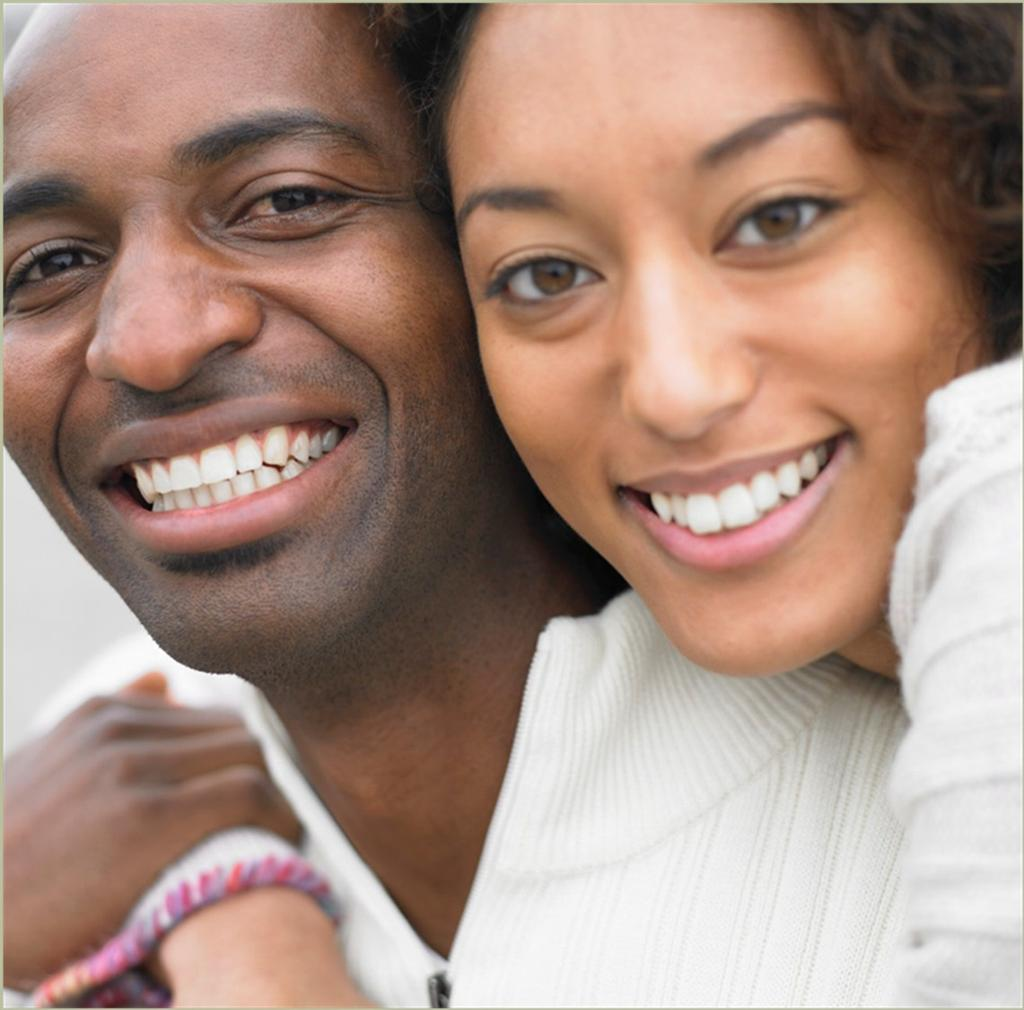face: (448, 4, 990, 674), (6, 8, 470, 674)
